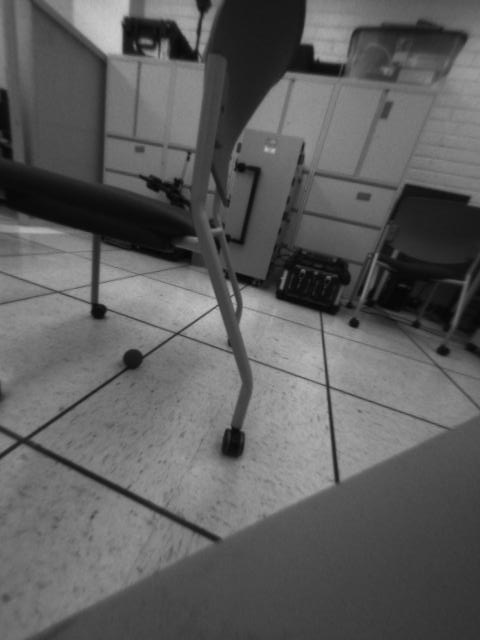dogtoy: (117, 345, 150, 372)
